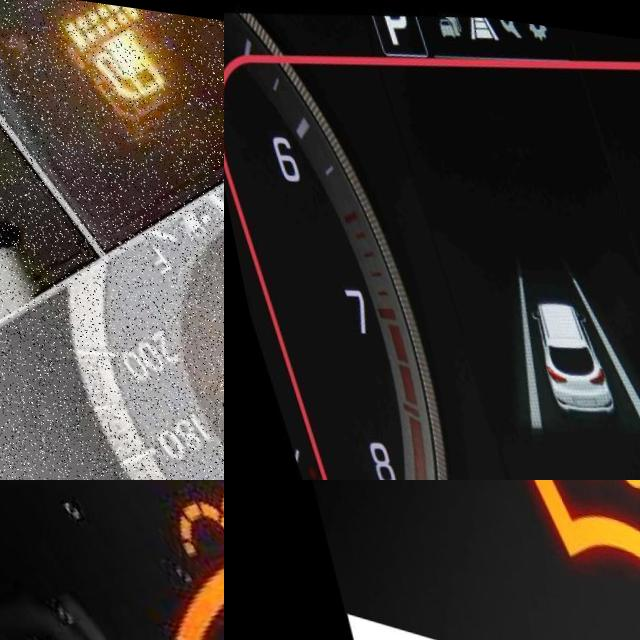Washer Fluid: (442, 480, 640, 597), (135, 480, 224, 640)
